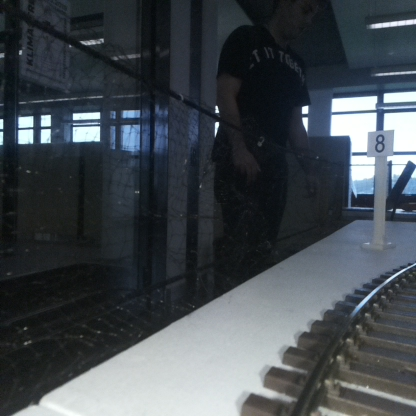white-info-8: (368, 131, 393, 249)
